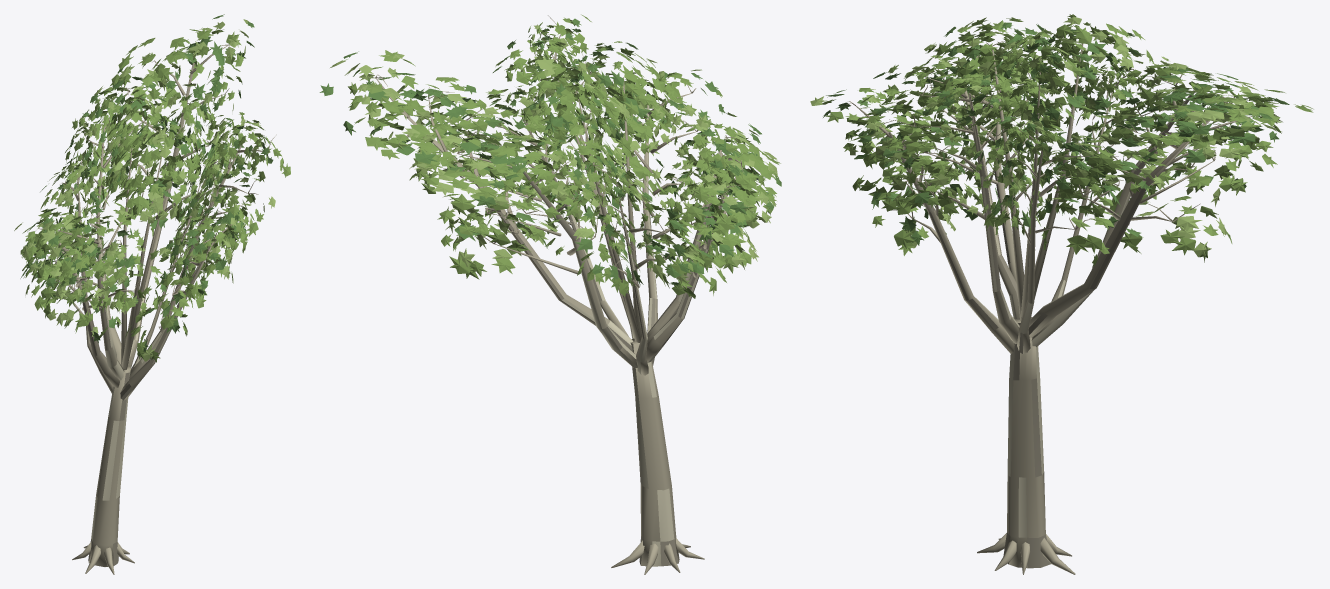
3 views of the same model, side by side, from view 1: azimuth 30°, elevation 25°; view 2: azimuth 150°, elevation 25°; view 3: azimuth 270°, elevation 25° (orthographic). The views are drawn at different scales.
Visible parts, largest first — view 1: tree_plane_a_PlaneLeaf, tree_plane_a_PlaneBark, tree_plane_a_PlaneLeafLight, tree_plane_a_PlaneLeafDark, tree_plane_a_PlaneBarkPale, tree_plane_a_PlaneBarkBrown; view 2: tree_plane_a_PlaneLeaf, tree_plane_a_PlaneBark, tree_plane_a_PlaneLeafLight, tree_plane_a_PlaneLeafDark, tree_plane_a_PlaneBarkPale, tree_plane_a_PlaneBarkBrown; view 3: tree_plane_a_PlaneLeaf, tree_plane_a_PlaneBark, tree_plane_a_PlaneLeafDark, tree_plane_a_PlaneLeafLight, tree_plane_a_PlaneBarkBrown, tree_plane_a_PlaneBarkPale.
Part boxes in pixels (<box>): tree_plane_a_PlaneLeaf: <box>20,29,290,362</box>; tree_plane_a_PlaneBark: <box>35,44,276,574</box>; tree_plane_a_PlaneLeafLight: <box>14,19,275,361</box>; tree_plane_a_PlaneLeafDark: <box>20,14,285,351</box>; tree_plane_a_PlaneBarkPale: <box>73,65,215,541</box>; tree_plane_a_PlaneBarkBrown: <box>77,63,206,565</box>; tree_plane_a_PlaneLeaf: <box>348,14,780,298</box>; tree_plane_a_PlaneBark: <box>375,15,743,574</box>; tree_plane_a_PlaneLeafLight: <box>330,24,777,283</box>; tree_plane_a_PlaneLeafDark: <box>319,18,781,285</box>; tree_plane_a_PlaneBarkPale: <box>402,52,723,566</box>; tree_plane_a_PlaneBarkBrown: <box>499,119,723,566</box>; tree_plane_a_PlaneLeaf: <box>822,14,1313,267</box>; tree_plane_a_PlaneBark: <box>846,40,1254,574</box>; tree_plane_a_PlaneLeafDark: <box>823,22,1289,245</box>; tree_plane_a_PlaneLeafLight: <box>810,16,1282,257</box>; tree_plane_a_PlaneBarkBrown: <box>889,91,1203,568</box>; tree_plane_a_PlaneBarkPale: <box>888,84,1209,537</box>.
Bounding box in the file's own units: 11.66 × 16 × 12.34.
